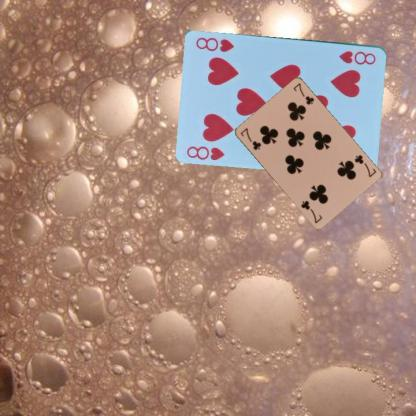7c: (352, 152, 378, 178), (238, 126, 262, 152)
8h: (184, 142, 226, 161), (337, 47, 377, 66)
